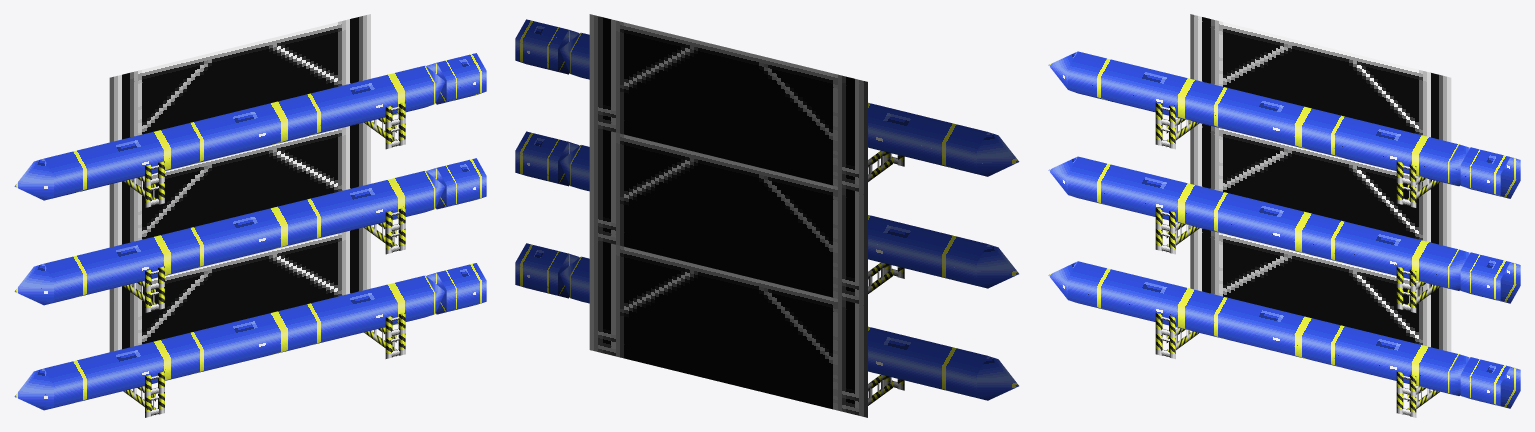
The model's file is Ptorpedo_rackZ.obj.
3 views of the same model, side by side, from view 1: azimuth 30°, elevation 25°; view 2: azimuth 150°, elevation 25°; view 3: azimuth 330°, elevation 25° (orthographic). The views are drawn at different scales.
Size of the model in its own units: 1344 by 875 by 175.
Materials: 4 (4 with a texture image).
